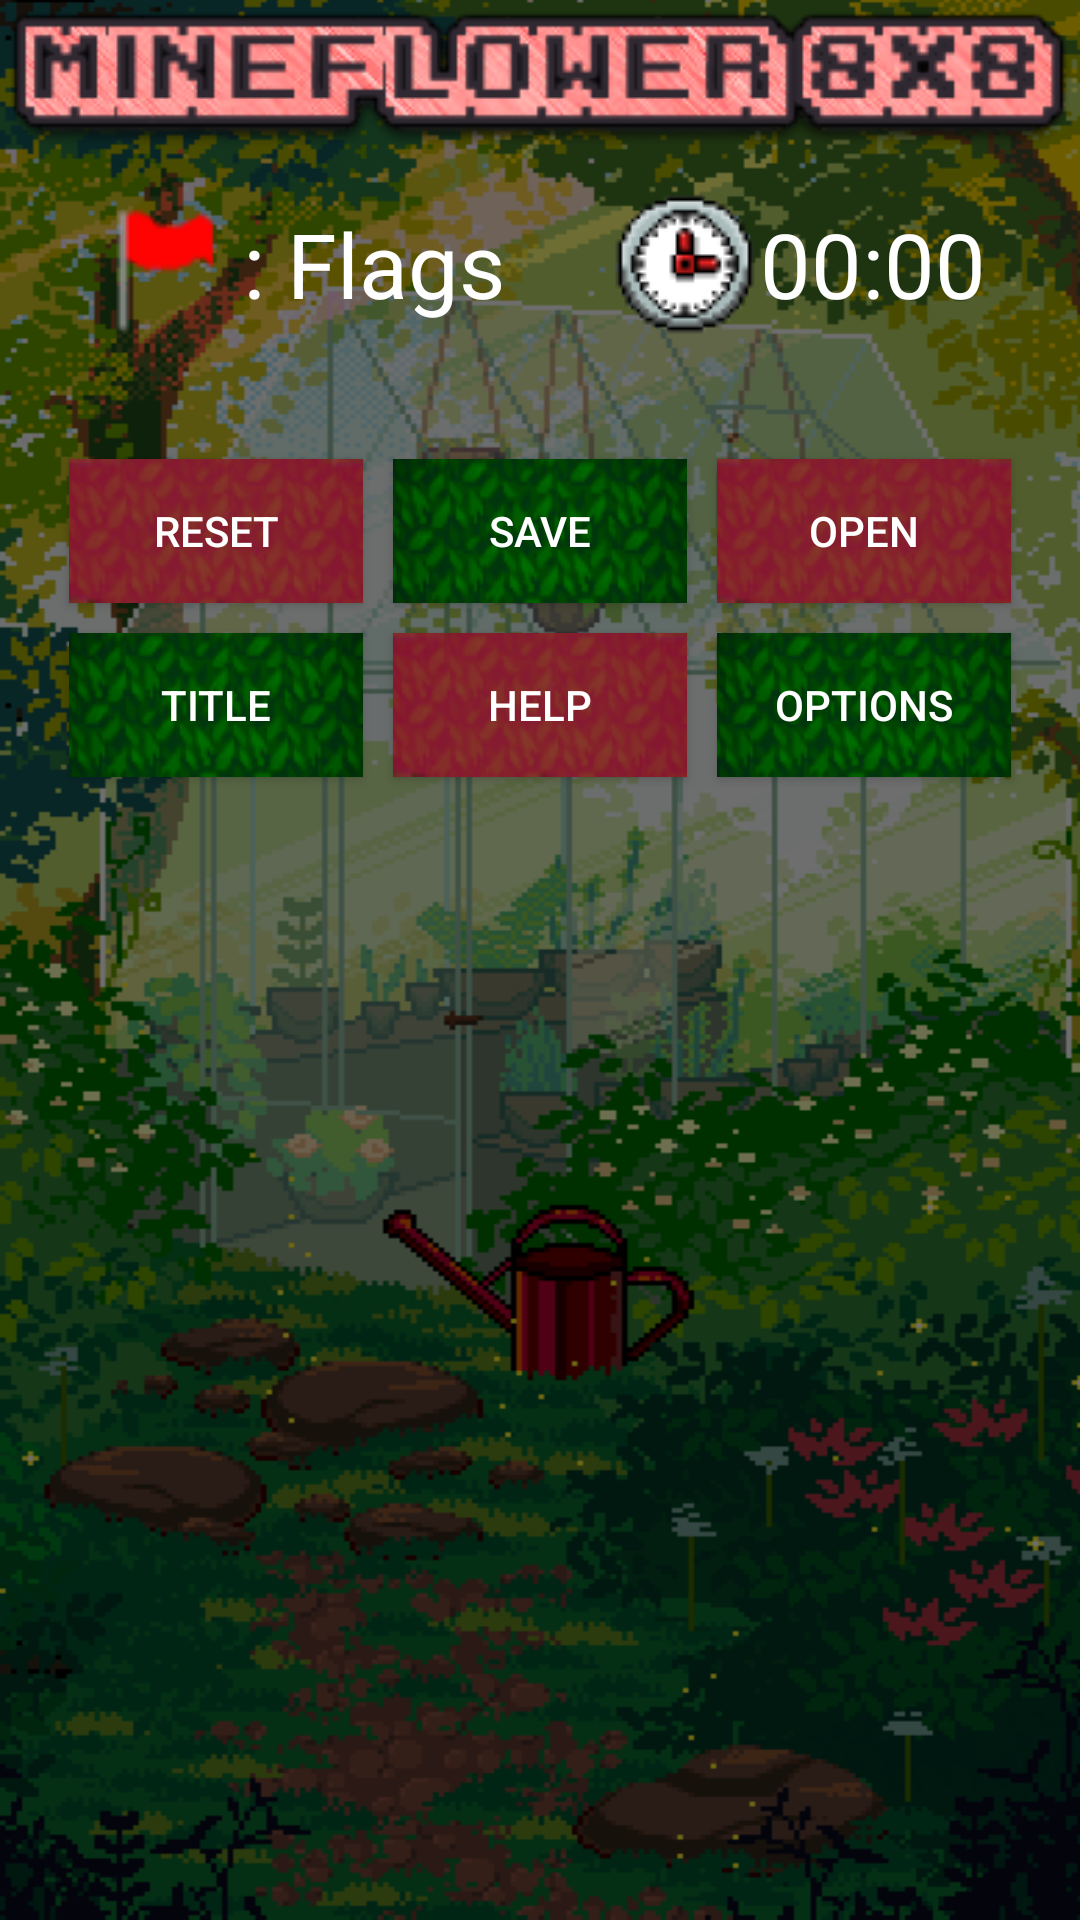

Screen size 1080x1920. Icon name, then its center in pixels as point (x, y):
clock: point (685, 264)
uiflag: point (168, 264)
